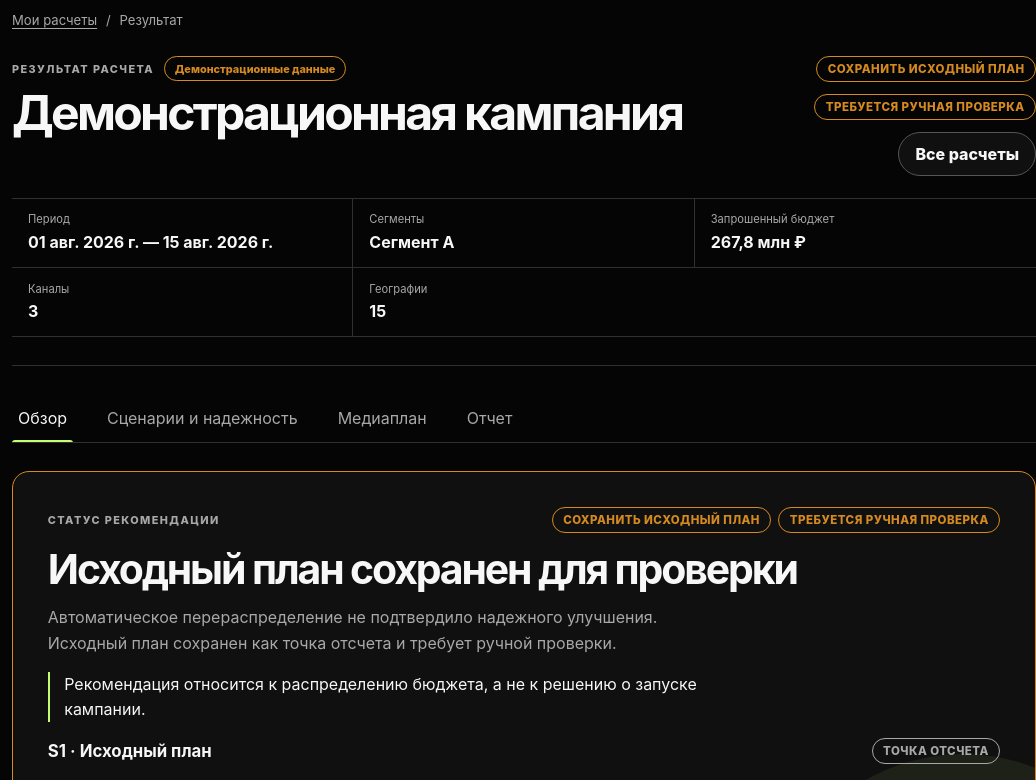
Test: ResultOverviewPage v2 orchestration › loads only the narrow report transport on the report tab and keeps v2 as KPI source of truth
The width and height of the screenshot is (1036, 780).
Expected: the heading "Демонстрационная кампания" is shown, [12, 90, 793, 136]
Step 1. Click the tab "Отчет" → (490, 418), box [461, 394, 518, 442]
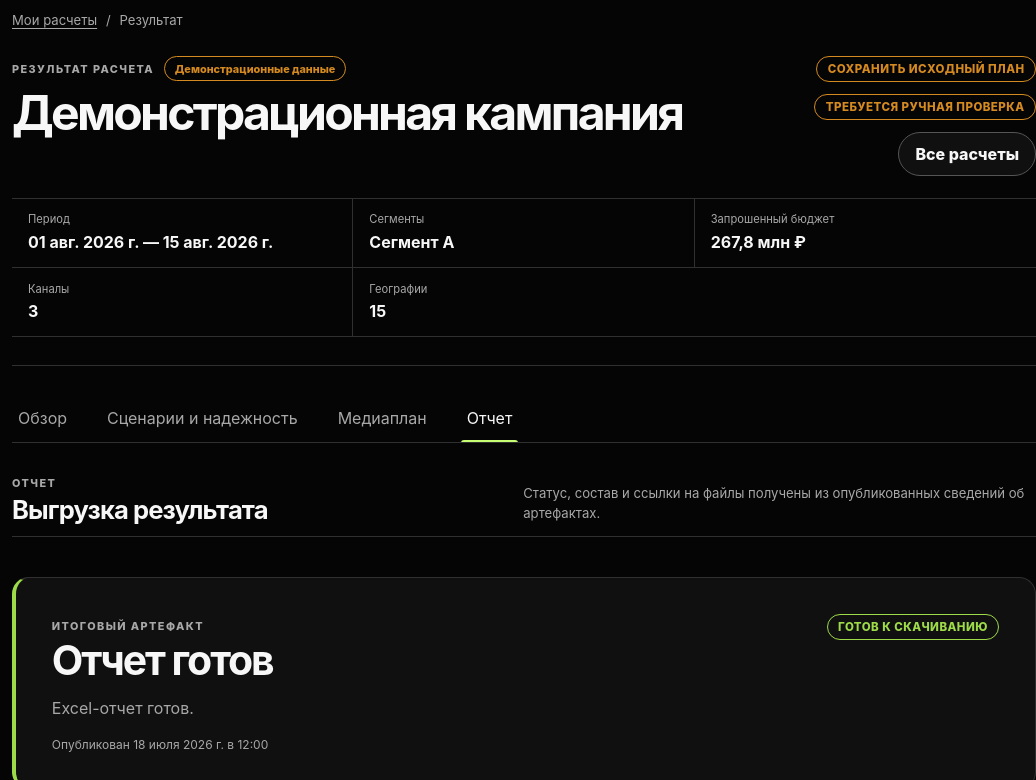
Expected: the heading "Демонстрационная кампания" is shown, [12, 90, 793, 136]
Result: the heading "Отчет готов" is shown at [52, 640, 273, 680]
